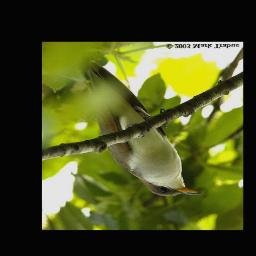Cuckoo: (76, 56, 203, 198)
